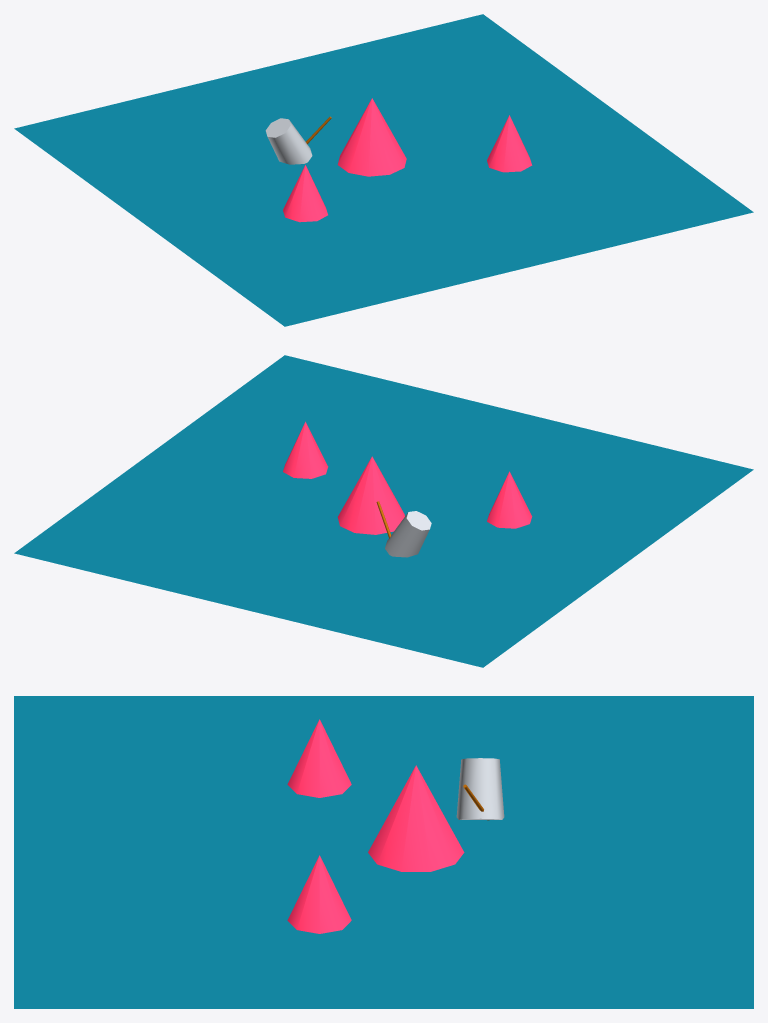
File: atl_01.glb
3 renders of one model, top to bottom at view 1: azimuth 30°, elevation 25°; view 2: azimuth 150°, elevation 25°; view 3: azimuth 270°, elevation 25°, orthographic. The views are drawn at different scales.
Visible parts, largest first — view 1: scenario_base_floor, ATL_01, atlans_shattered_statue; view 2: scenario_base_floor, ATL_01, atlans_shattered_statue; view 3: scenario_base_floor, ATL_01, atlans_shattered_statue.
Boxes of the visible parts, left/top/right/bottom form: scenario_base_floor: left=14, top=14, right=753, bottom=326; ATL_01: left=283, top=98, right=532, bottom=222; atlans_shattered_statue: left=265, top=116, right=331, bottom=164; scenario_base_floor: left=14, top=355, right=753, bottom=667; ATL_01: left=283, top=421, right=532, bottom=534; atlans_shattered_statue: left=376, top=501, right=431, bottom=557; scenario_base_floor: left=14, top=696, right=753, bottom=1008; ATL_01: left=287, top=719, right=464, bottom=933; atlans_shattered_statue: left=456, top=758, right=504, bottom=820.
Size of the model in its own units: 46 by 7.18 by 46.
